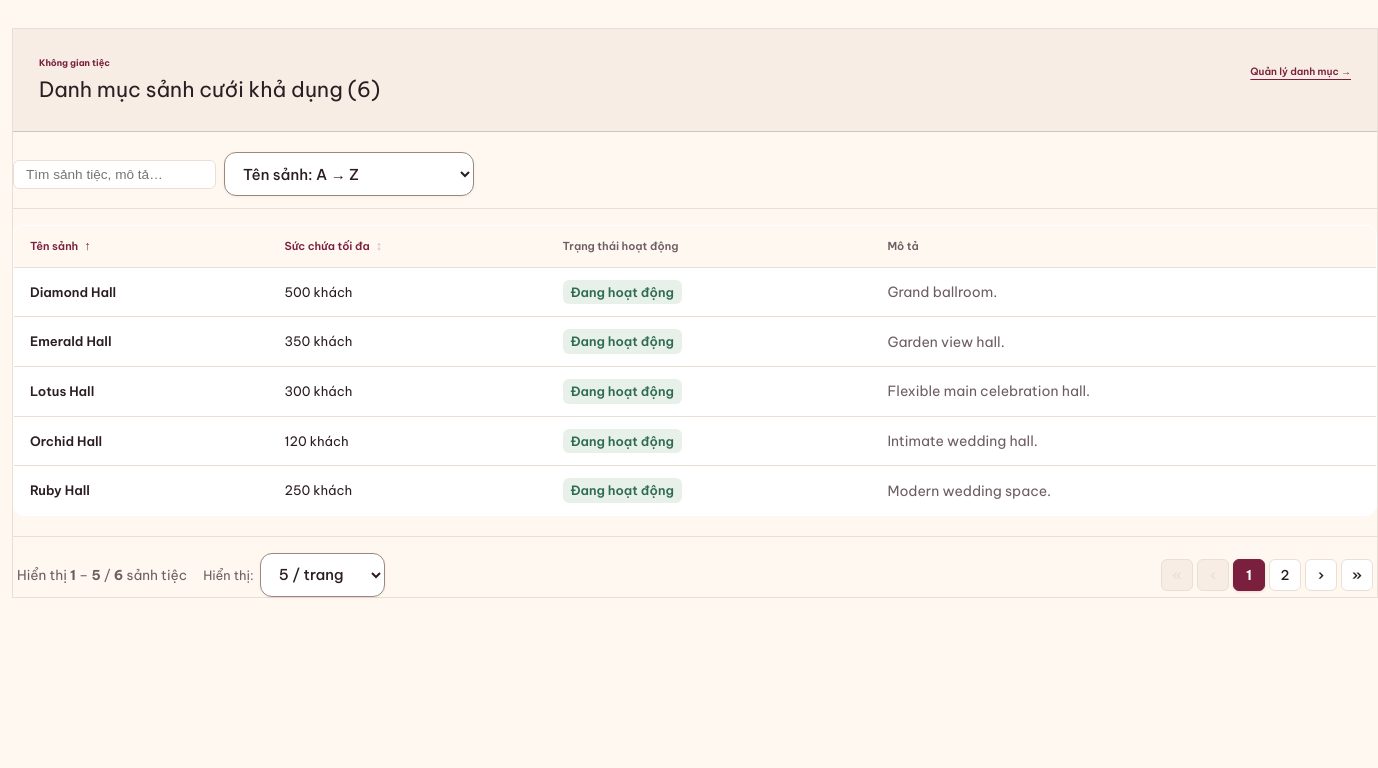
Test case: DashboardVenueHalls pagination and sorting › renders halls with pagination and allows navigating pages
Check: the heading "Danh mục sảnh cưới khả dụng (6)" is shown, box [39,76,380,103]
Check: the text "Hiển thị 1 – 5 / 6 sảnh tiệc" is shown, box [17,566,187,584]
// Click page 2
Click the button "2": (1285, 575) [1269,559,1301,591]
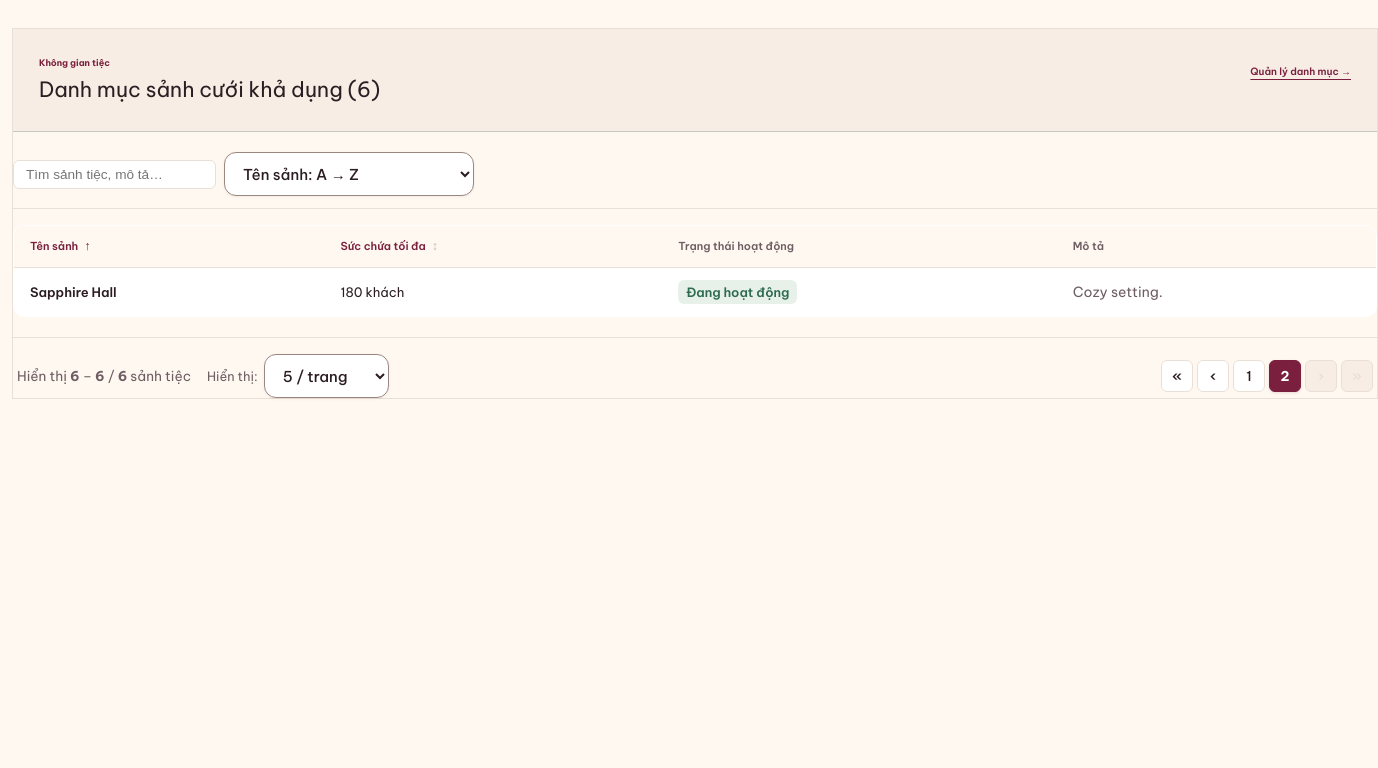
Check: the text "Sapphire Hall" is shown, box [14,267,324,317]
Check: the text "Diamond Hall" is gone
